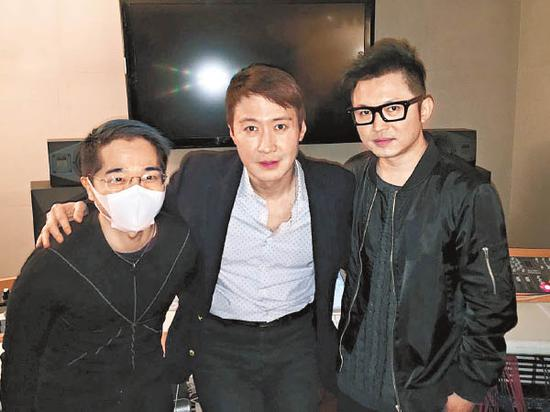face: (348, 77, 420, 156), (233, 96, 300, 177)
face_mask: (95, 142, 163, 234)
